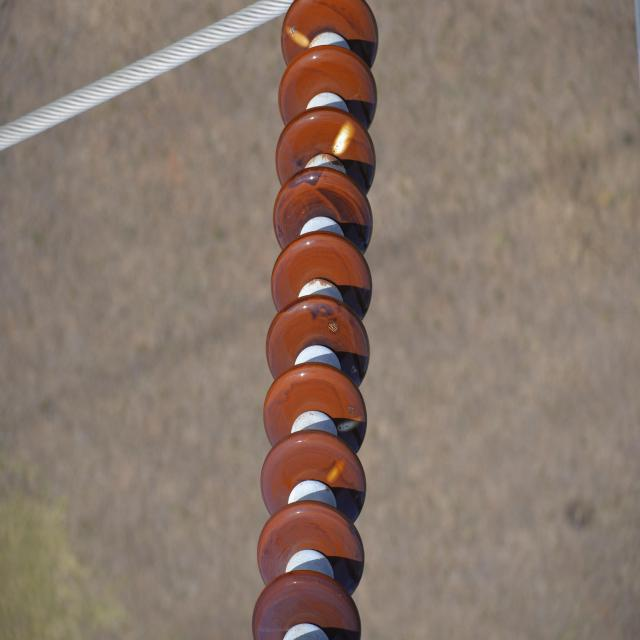insulator: (251, 0, 380, 639)
